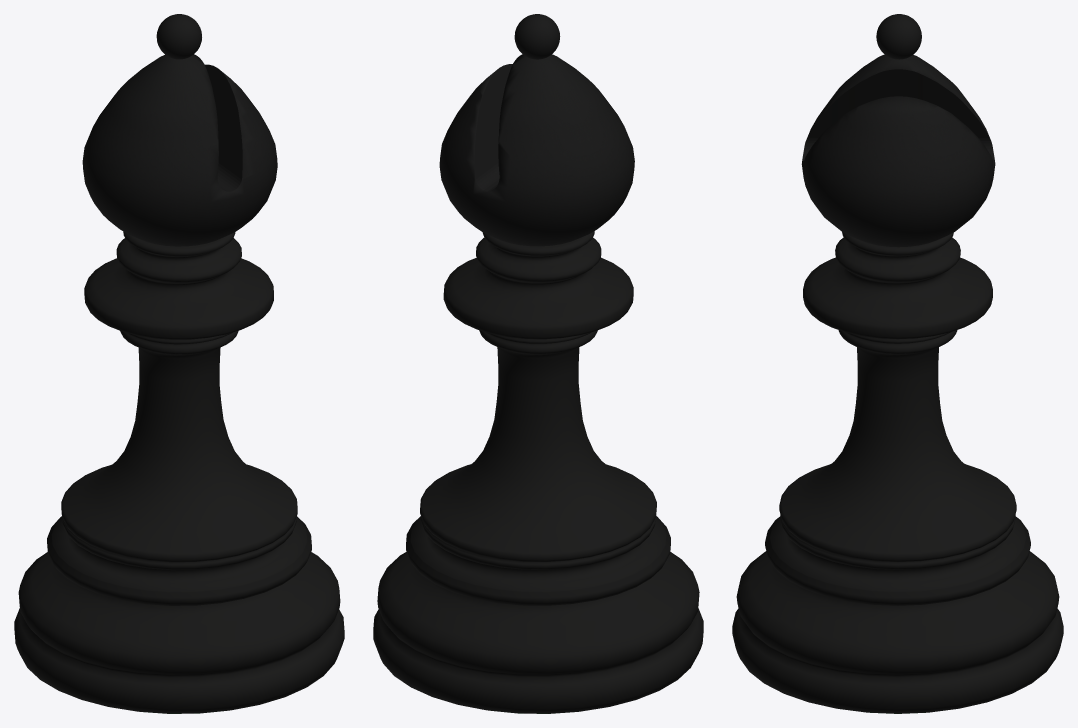
Rendered from Bishop.fbx.
3 views of the same model, side by side, from view 1: azimuth 30°, elevation 25°; view 2: azimuth 150°, elevation 25°; view 3: azimuth 270°, elevation 25° (orthographic).
Visible parts, largest first — view 1: B Body; view 2: B Body; view 3: B Body.
Boxes of the visible parts, x1,y1,x2,y2 form: B Body: (14,14,344,713); B Body: (373,14,703,713); B Body: (732,14,1063,713).
Bounding box in the file's own units: 231 × 231 × 487.
